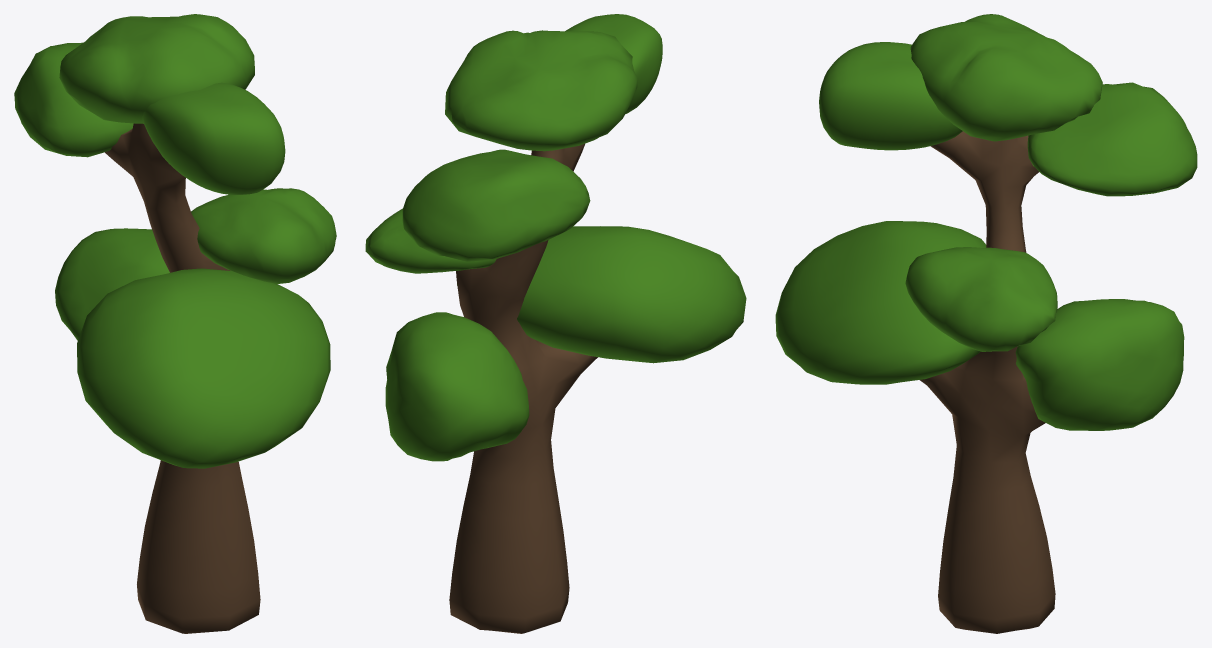
Rendered from Tree1.fbx.
3 renders of one model, left to right at view 1: azimuth 30°, elevation 25°; view 2: azimuth 150°, elevation 25°; view 3: azimuth 270°, elevation 25°, orthographic. The views are drawn at different scales.
Visible parts, largest first — view 1: Vert; view 2: Vert; view 3: Vert.
Part boxes in pixels (bbox=[...]): Vert: bbox=[14, 14, 336, 633]; Vert: bbox=[365, 14, 746, 633]; Vert: bbox=[775, 14, 1197, 633].
Bounding box in the file's own units: 5.49 × 10.64 × 7.16.
